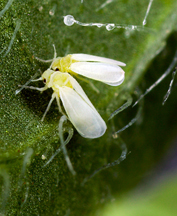whitefly: (24, 65, 107, 139), (34, 44, 128, 93)
